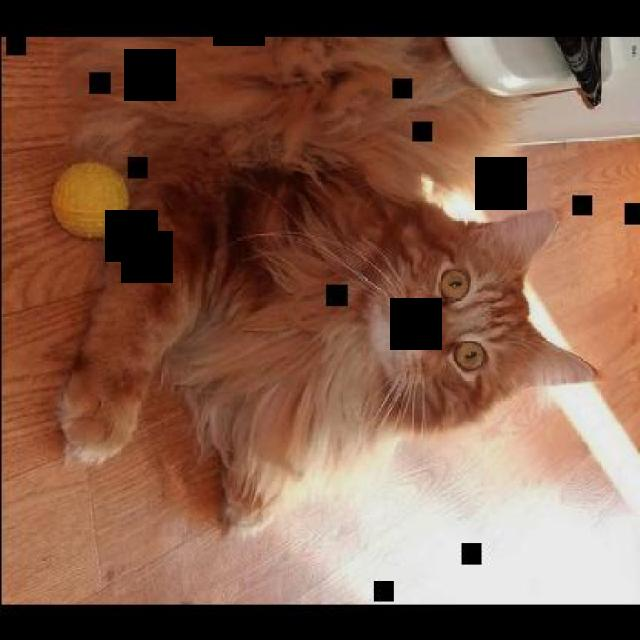unauthorized: (51, 37, 631, 540)
